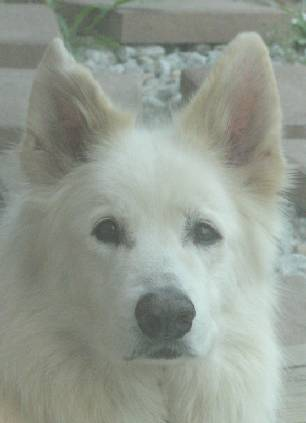dog: (1, 31, 288, 421)
